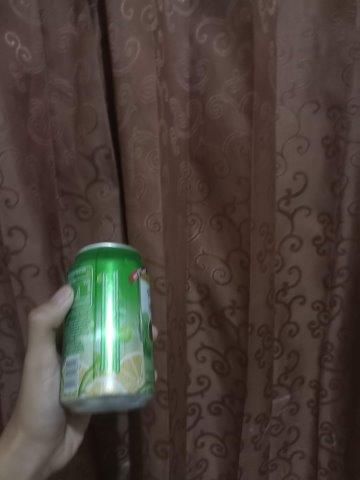kaleng: (60, 242, 155, 417)
